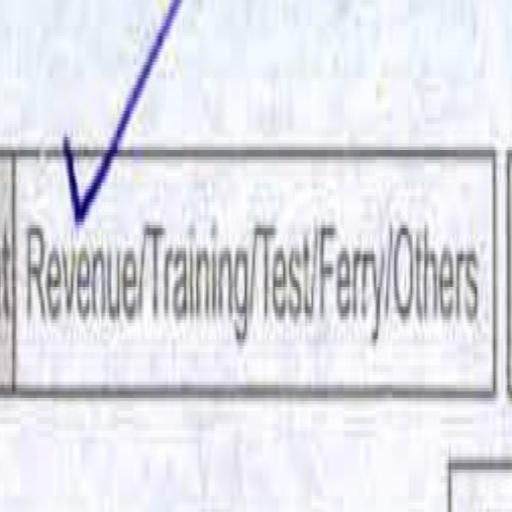check: (18, 94, 144, 438)
